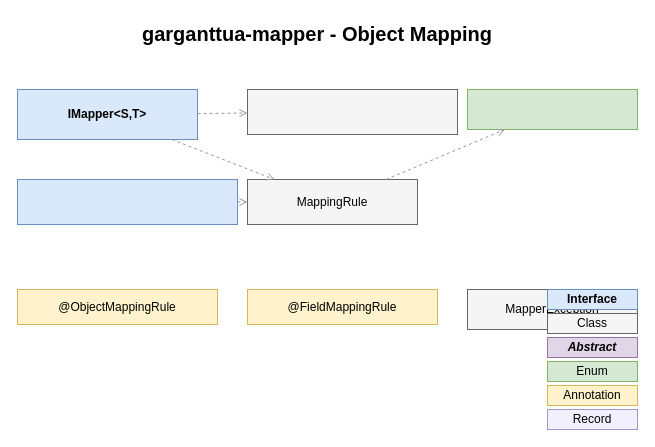
Some shapes in this 655 by 447 pixel diagram are drawn without their labels. Each missing label, with the centre of its shape:
"IMappingRuleExecutor" goes at (x=127, y=201).
"MapperConfiguration" goes at (x=352, y=111).
"MappingDirection" goes at (x=552, y=109).
